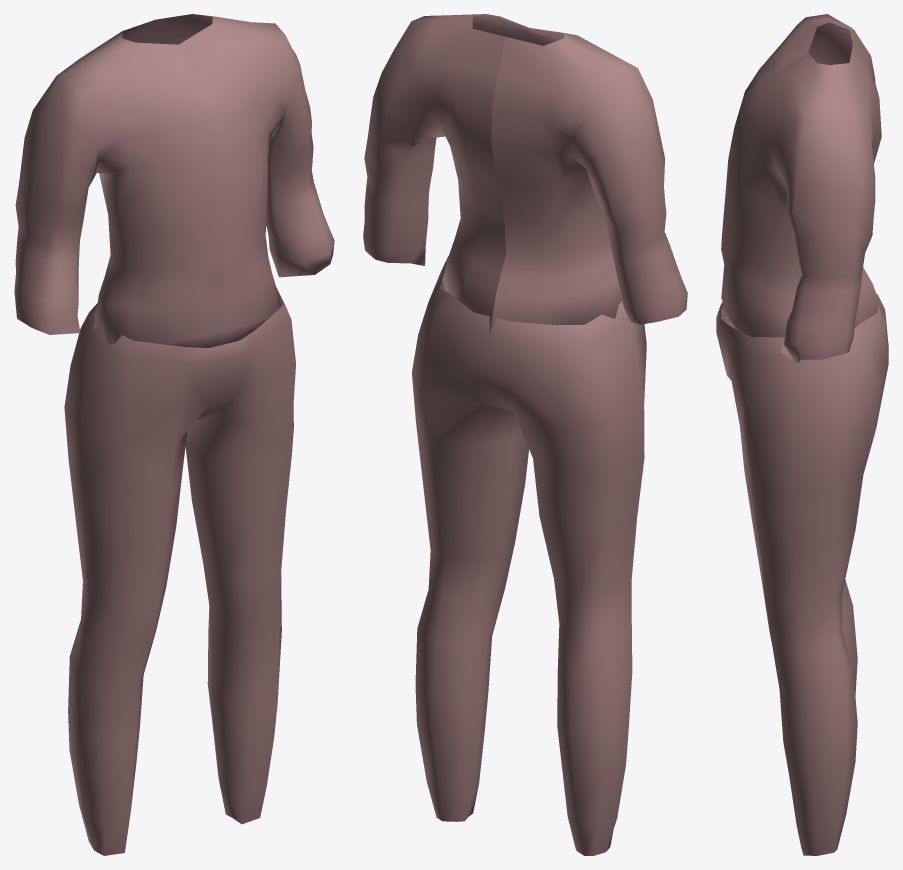
File: M_chemise et pantalon .fbx
The picture shows the model from 3 angles, left to right: view 1: azimuth 30°, elevation 25°; view 2: azimuth 150°, elevation 25°; view 3: azimuth 270°, elevation 25°; orthographic projection. The views are drawn at different scales.
Parts seen in each view (by area): view 1: polySurface363; view 2: polySurface363; view 3: polySurface363.
Part boxes in pixels (box(x1,y1,x2,y2)): polySurface363: box(14, 14, 334, 855); polySurface363: box(363, 14, 687, 855); polySurface363: box(716, 14, 888, 855).
Size of the model in its own units: 0.6661 by 0.3323 by 1.65.
